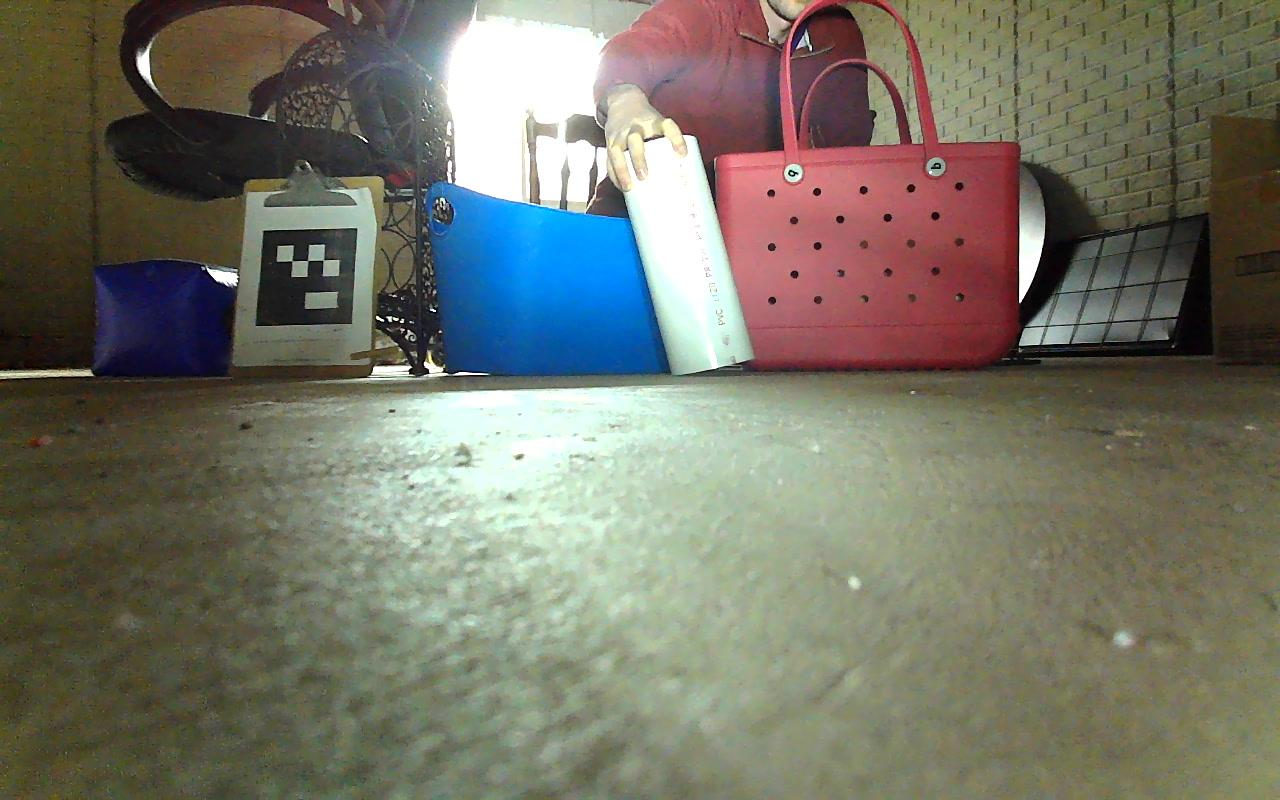coral: (616, 130, 755, 375)
